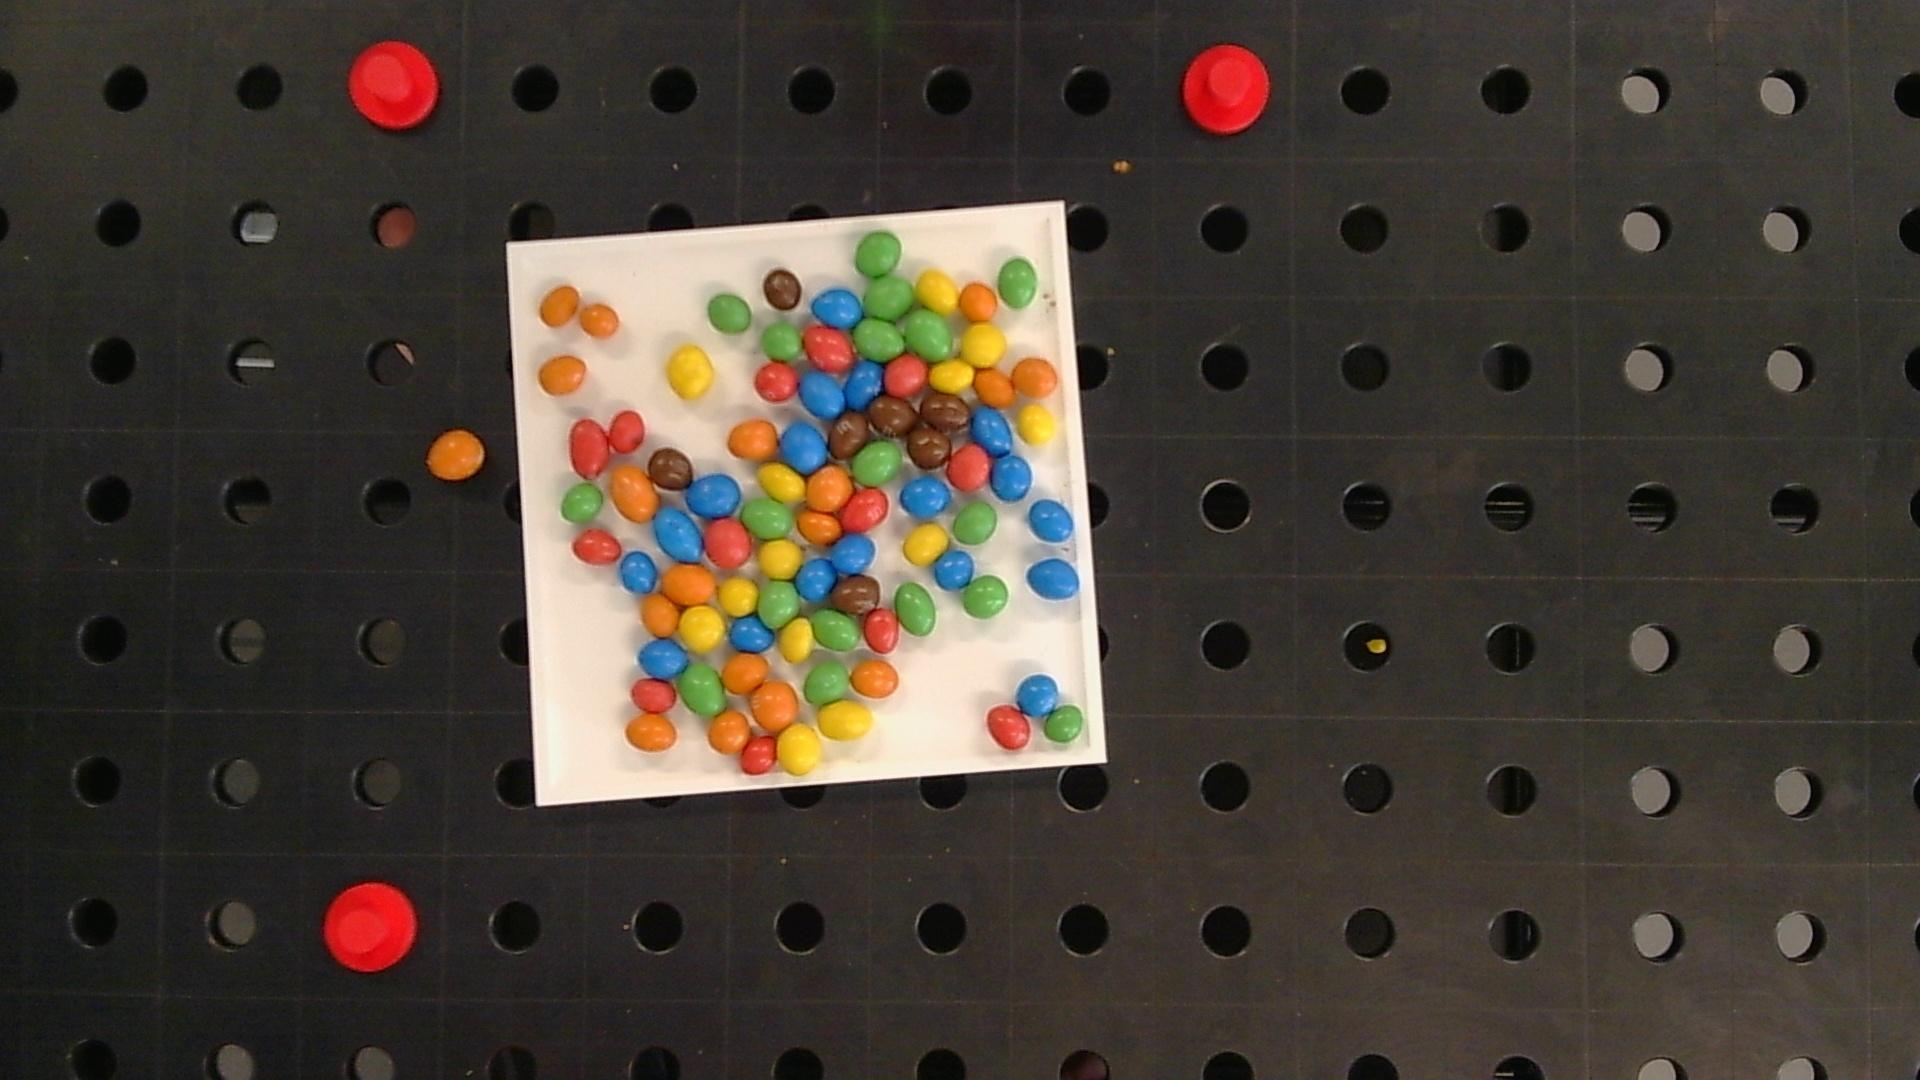blue: (655, 509, 703, 562), (687, 473, 741, 517), (782, 423, 827, 471), (1027, 559, 1079, 600), (800, 372, 845, 418), (811, 289, 862, 328), (901, 476, 949, 517), (1029, 500, 1073, 543), (640, 638, 688, 676), (992, 454, 1031, 500), (972, 407, 1011, 454), (832, 533, 876, 574), (1017, 674, 1059, 715), (796, 558, 836, 600), (845, 363, 882, 407), (729, 615, 773, 651), (620, 551, 657, 592), (935, 551, 973, 589)
brown: (647, 447, 694, 491), (869, 396, 916, 436), (907, 423, 949, 468), (833, 576, 881, 615), (920, 394, 969, 431), (829, 414, 868, 460), (762, 268, 802, 310)
green: (905, 310, 955, 359), (679, 662, 725, 715), (852, 440, 902, 485), (894, 583, 936, 636), (864, 277, 915, 319), (855, 232, 902, 277), (742, 498, 795, 538), (855, 319, 905, 360), (963, 576, 1010, 618), (812, 609, 860, 651), (997, 258, 1038, 307), (953, 502, 998, 545), (758, 582, 800, 626), (804, 662, 849, 704), (707, 294, 752, 334), (560, 484, 604, 522), (1043, 705, 1085, 744), (762, 323, 802, 360)
orange: (425, 429, 485, 480), (609, 465, 658, 522), (750, 680, 798, 731), (662, 566, 716, 604), (728, 421, 778, 460), (625, 715, 678, 752), (807, 467, 852, 509), (1011, 357, 1059, 397), (851, 659, 899, 698), (708, 711, 750, 753), (539, 356, 585, 394), (723, 654, 767, 692), (539, 285, 579, 326), (642, 592, 679, 636), (959, 282, 998, 322), (975, 369, 1014, 406), (580, 303, 620, 338), (799, 512, 841, 543)
red: (568, 419, 609, 477), (803, 327, 855, 372), (704, 520, 752, 566), (986, 705, 1031, 749), (841, 489, 887, 530), (948, 446, 990, 489), (885, 355, 927, 396), (754, 363, 799, 401), (572, 530, 621, 563), (864, 608, 899, 653), (630, 679, 676, 712), (609, 410, 645, 452), (740, 737, 777, 774)
yellow: (667, 345, 713, 398), (777, 724, 820, 774), (816, 702, 873, 740), (680, 607, 725, 651), (916, 270, 960, 313), (903, 524, 948, 564), (961, 324, 1006, 364), (760, 464, 806, 502), (760, 541, 803, 579), (779, 618, 814, 662), (1018, 405, 1056, 443), (930, 360, 973, 392), (719, 578, 757, 613)
